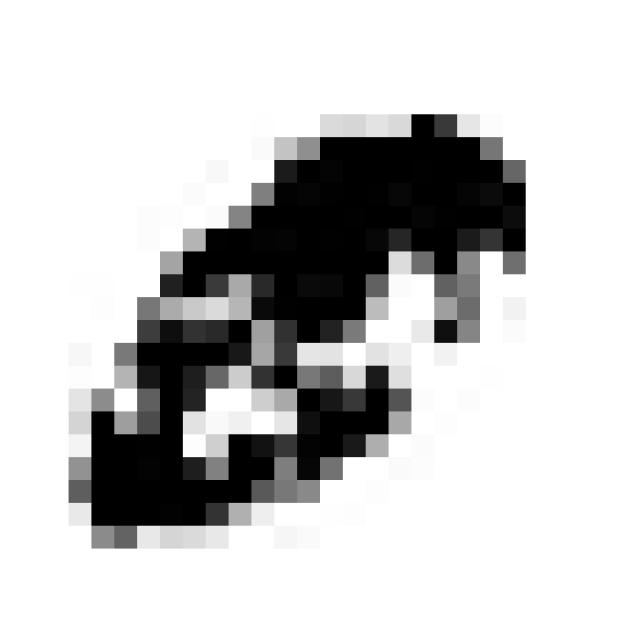0 -zero-: (52, 96, 542, 565)
